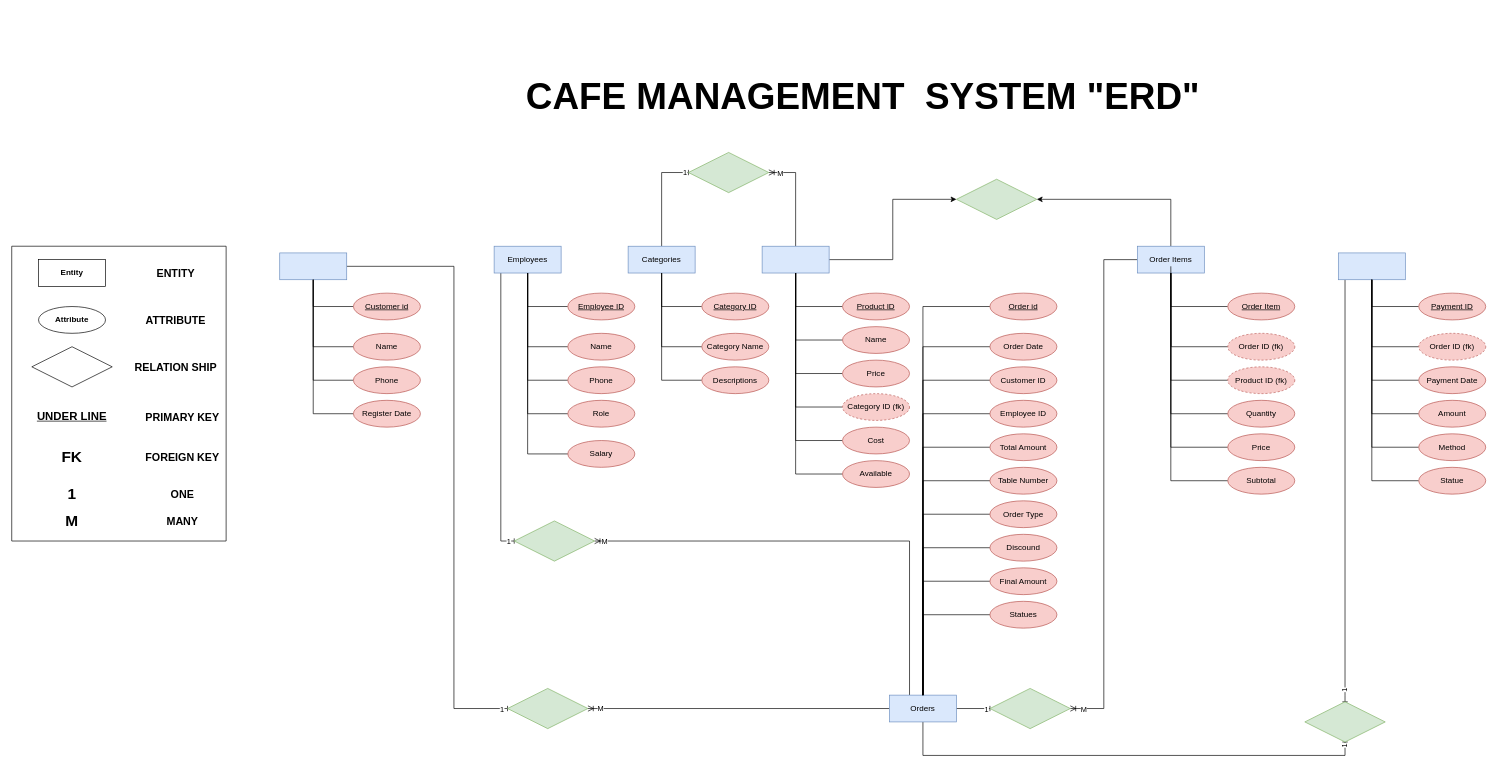
Image size: 1497x773. Some labels were removed from this diagram. The centre of each missing label's shape, as x and y in pixels:
Contains: [1029,708]
Customers: [313,266]
Has: [728,172]
Included in: [996,199]
Paid By: [1344,721]
Payment: [1371,266]
Places: [547,708]
Products: [795,259]
Relationship: [71,366]
Serves: [554,540]
